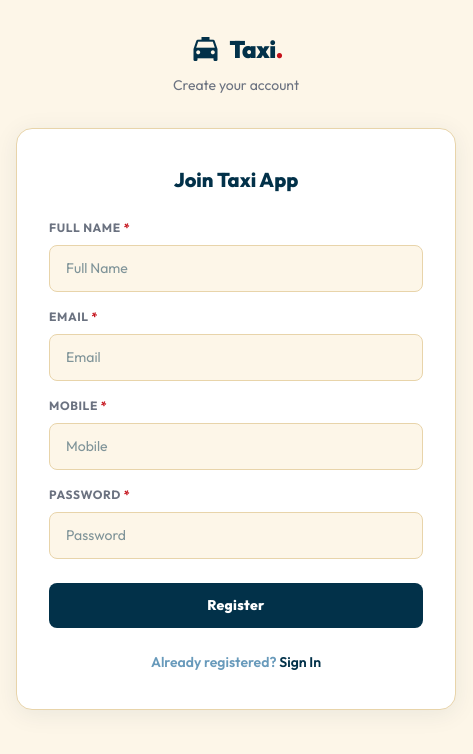
Test case: displays error message on failed registration
Type "Jane Doe" into the field with placeholder "Full Name" at (236, 268), box top-left (49, 244), bottom-right (423, 292)
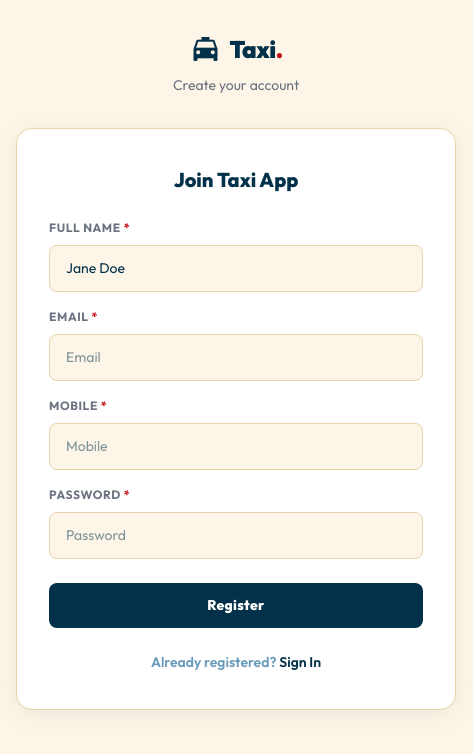
Type "jane@example.com" into the field with placeholder "Email" at (236, 357), box top-left (49, 334), bottom-right (423, 380)
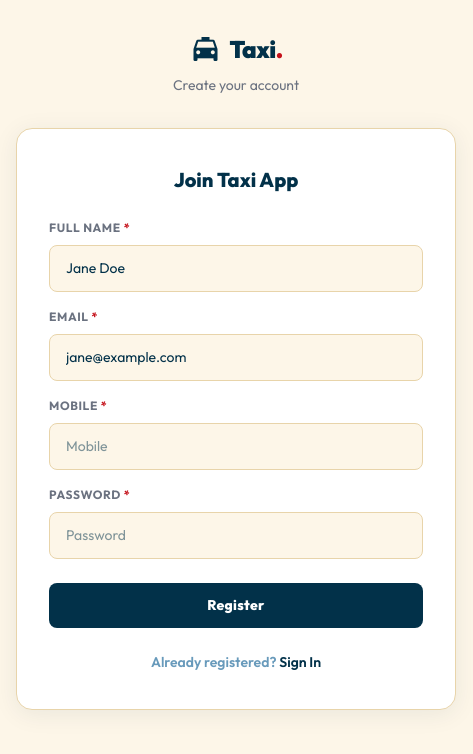
Type "0987654321" into the field with placeholder "Mobile" at (236, 446), box top-left (49, 422), bottom-right (423, 470)
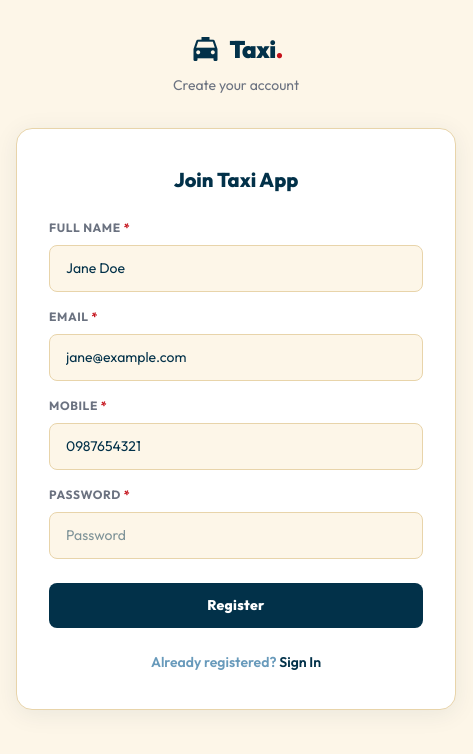
Type "pass123" into the password field with placeholder "Password" at (236, 535), box top-left (49, 512), bottom-right (423, 558)
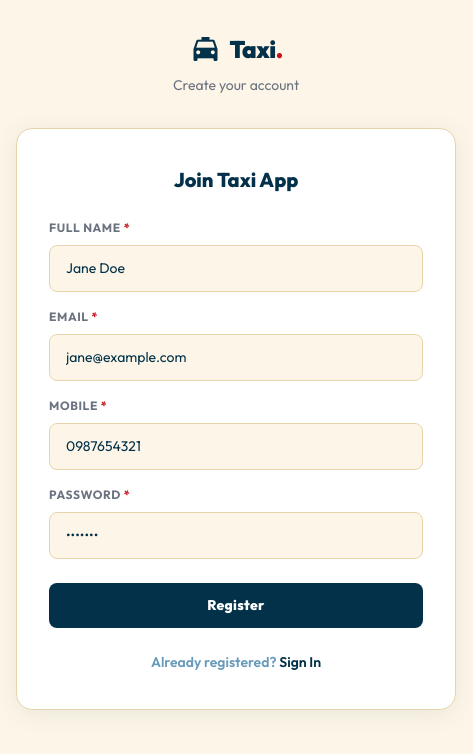
Click the button "Register" at (236, 605), box top-left (49, 582), bottom-right (423, 628)
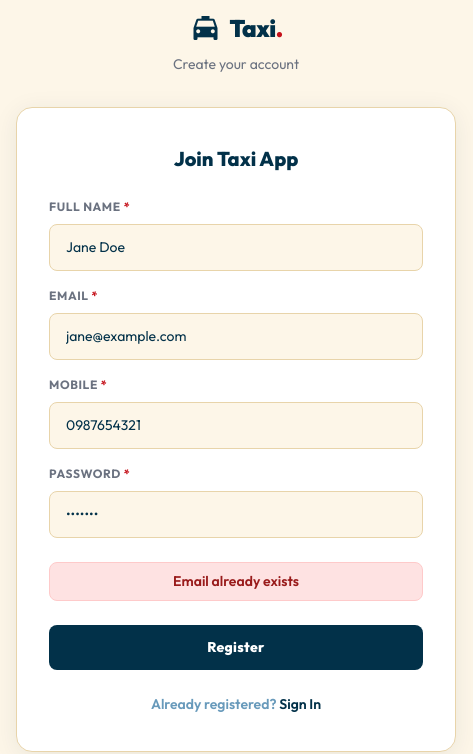
Now the text "Email already exists" is shown, box top-left (49, 562), bottom-right (423, 601)
